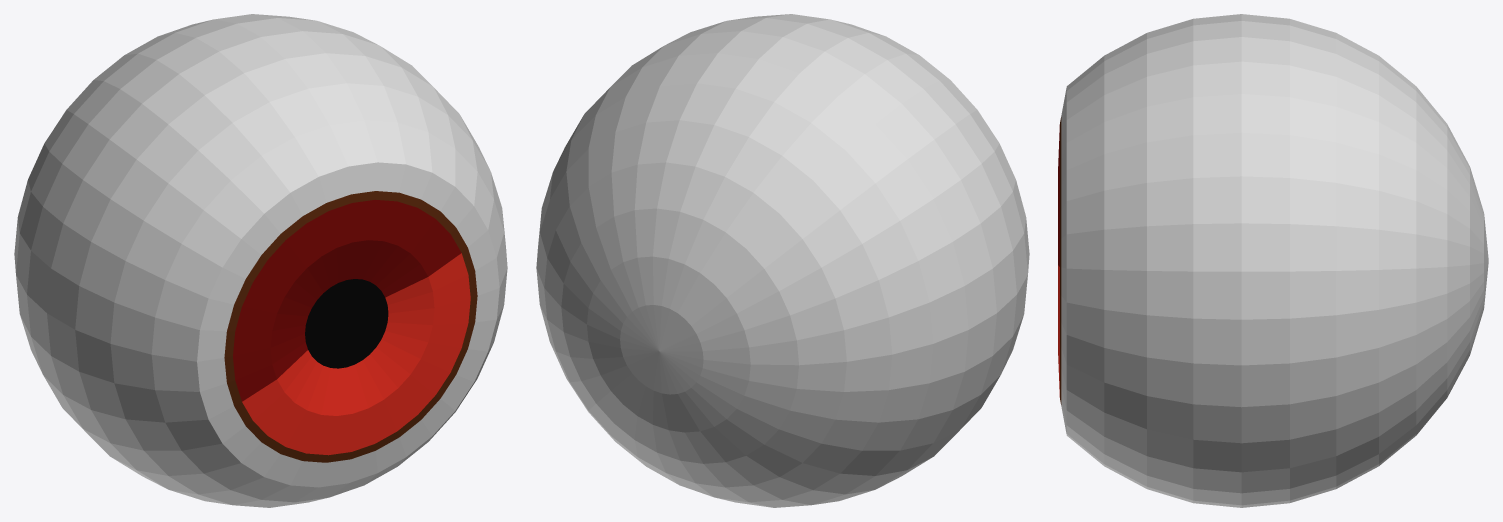
File: olhovermelho.fbx
The picture shows the model from 3 angles, left to right: view 1: azimuth 30°, elevation 25°; view 2: azimuth 150°, elevation 25°; view 3: azimuth 270°, elevation 25°; orthographic projection.
Parts seen in each view (by area): view 1: Sphere; view 2: Sphere; view 3: Sphere.
Boxes of the visible parts, left/top/right/bottom form: Sphere: left=14, top=14, right=507, bottom=507; Sphere: left=536, top=14, right=1029, bottom=507; Sphere: left=1058, top=14, right=1488, bottom=507.
Bounding box in the file's own units: 200 × 200 × 174.
